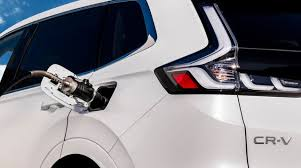car: (1, 1, 301, 168)
